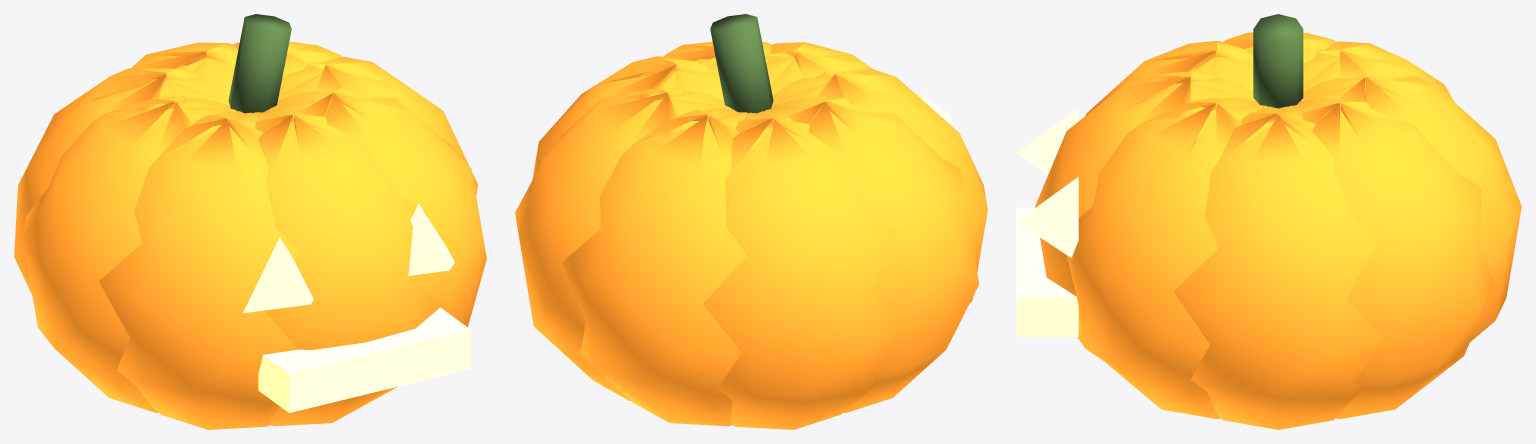
Rendered from pumpkin.glb.
3 renders of one model, left to right at view 1: azimuth 30°, elevation 25°; view 2: azimuth 150°, elevation 25°; view 3: azimuth 270°, elevation 25°, orthographic.
Visible parts, largest first — view 1: Sphere.005, Sphere.006, Sphere.004, Sphere.007, Cube, Sphere.003, Sphere, Cylinder, Sphere.002, Cone, Cone.001, Sphere.001; view 2: Sphere.003, Sphere.002, Sphere.004, Sphere.001, Sphere.005, Sphere, Cylinder, Sphere.006, Sphere.007; view 3: Sphere, Sphere.007, Sphere.001, Sphere.002, Sphere.006, Cube, Cylinder, Sphere.005, Sphere.003, Cone.001, Cone, Sphere.004.
Part boxes in pixels (bbox=[...]): Sphere.005: bbox=[99, 111, 298, 429]; Sphere.006: bbox=[253, 108, 438, 426]; Sphere.004: bbox=[23, 95, 236, 412]; Sphere.007: bbox=[270, 87, 486, 400]; Cube: bbox=[258, 307, 470, 413]; Sphere.003: bbox=[14, 65, 229, 295]; Sphere: bbox=[278, 57, 477, 195]; Cylinder: bbox=[228, 14, 291, 113]; Sphere.002: bbox=[97, 42, 238, 98]; Cone: bbox=[243, 237, 313, 313]; Cone.001: bbox=[408, 203, 454, 275]; Sphere.001: bbox=[187, 41, 342, 89]; Sphere.003: bbox=[698, 111, 902, 429]; Sphere.002: bbox=[562, 108, 769, 426]; Sphere.004: bbox=[765, 98, 978, 412]; Sphere.001: bbox=[515, 85, 731, 400]; Sphere.005: bbox=[772, 68, 987, 302]; Sphere: bbox=[532, 56, 723, 179]; Cylinder: bbox=[710, 14, 773, 113]; Sphere.006: bbox=[764, 42, 871, 95]; Sphere.007: bbox=[639, 41, 794, 93]; Sphere: bbox=[1173, 106, 1382, 429]; Sphere.007: bbox=[1066, 97, 1274, 418]; Sphere.001: bbox=[1289, 97, 1494, 418]; Sphere.002: bbox=[1299, 71, 1521, 341]; Sphere.006: bbox=[1035, 68, 1255, 360]; Cube: bbox=[1016, 207, 1078, 336]; Cylinder: bbox=[1253, 14, 1303, 108]; Sphere.005: bbox=[1085, 41, 1253, 115]; Sphere.003: bbox=[1303, 41, 1454, 101]; Cone.001: bbox=[1016, 177, 1078, 258]; Cone: bbox=[1016, 108, 1078, 174]; Sphere.004: bbox=[1184, 32, 1340, 76].
Size of the model in its own units: 1.56 by 1.3 by 1.62.
